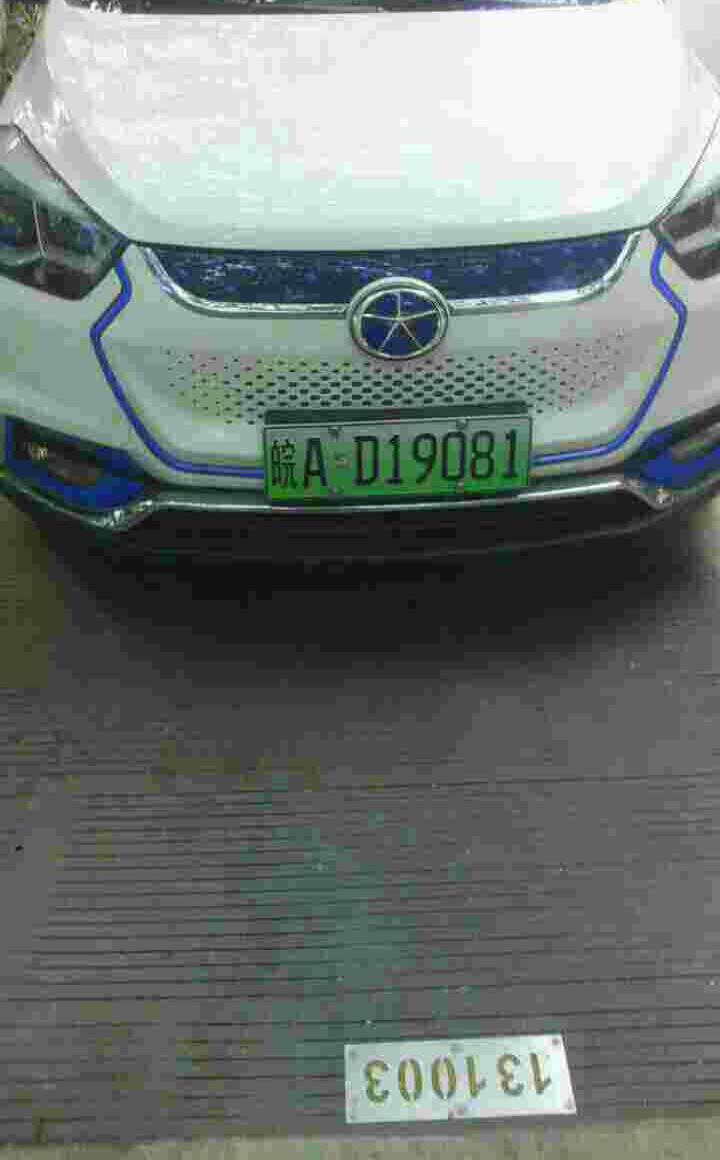car_green: (251, 416, 540, 505)
